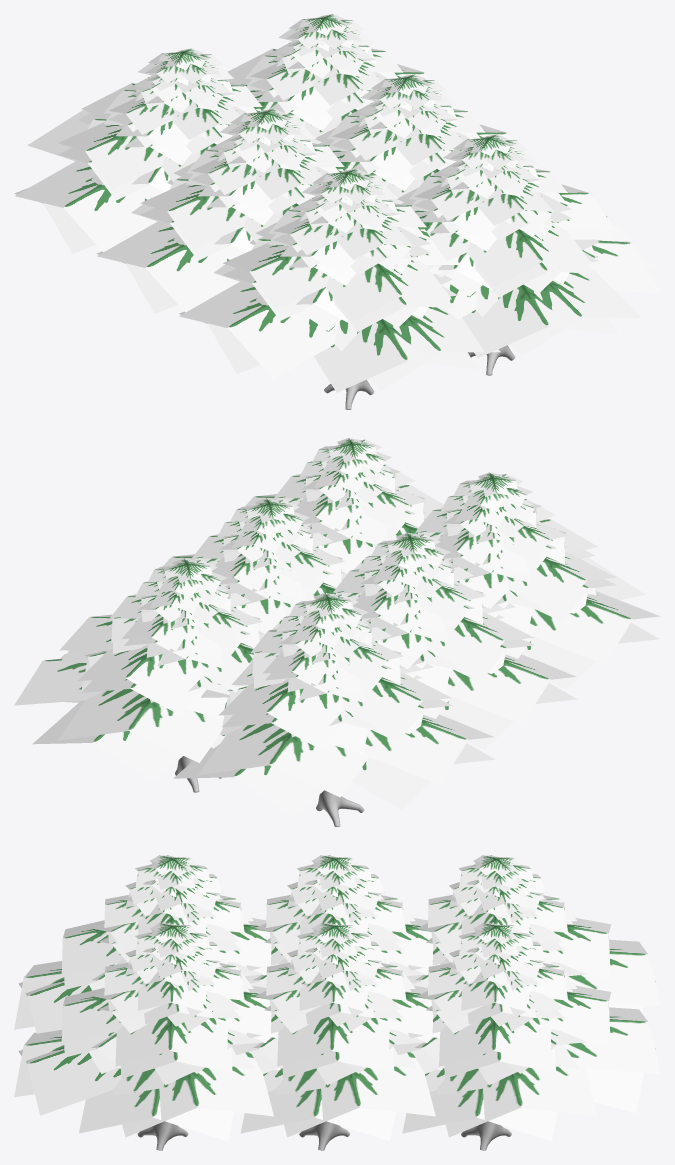
Rendered from Trees(Barrier).fbx.
3 views of the same model, one above another, from view 1: azimuth 30°, elevation 25°; view 2: azimuth 150°, elevation 25°; view 3: azimuth 270°, elevation 25° (orthographic).
Visible parts, largest first — view 1: Plane.011; view 2: Plane.011; view 3: Plane.011.
Part boxes in pixels (x1=…): Plane.011: x1=14, y1=14, x2=660, y2=409; Plane.011: x1=14, y1=438, x2=660, y2=826; Plane.011: x1=14, y1=855, x2=660, y2=1150.
Bounding box in the file's own units: 16.23 × 8.14 × 21.87.
